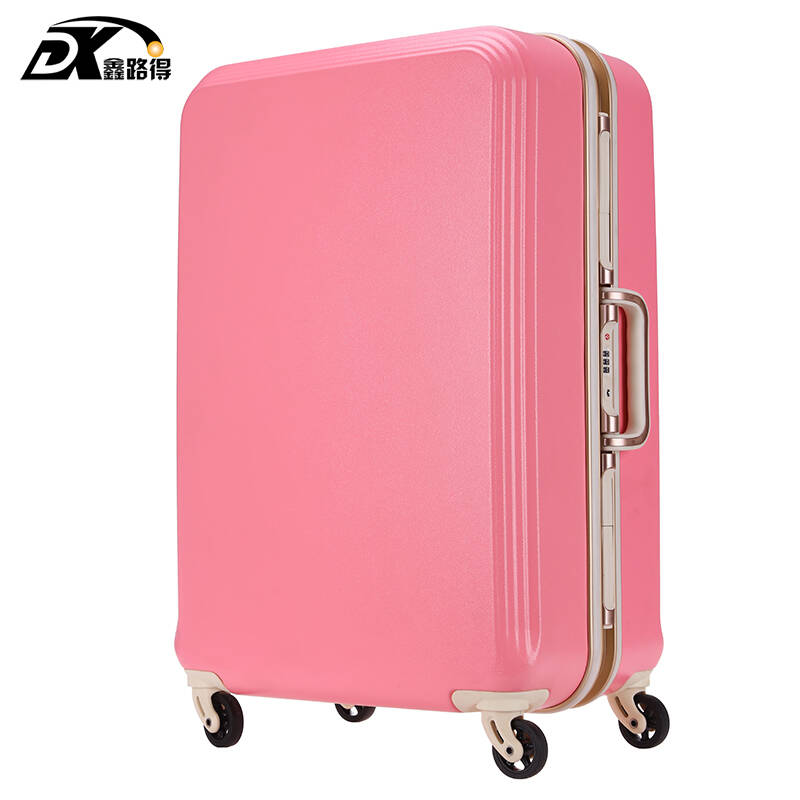suitcase: (172, 24, 671, 781)
